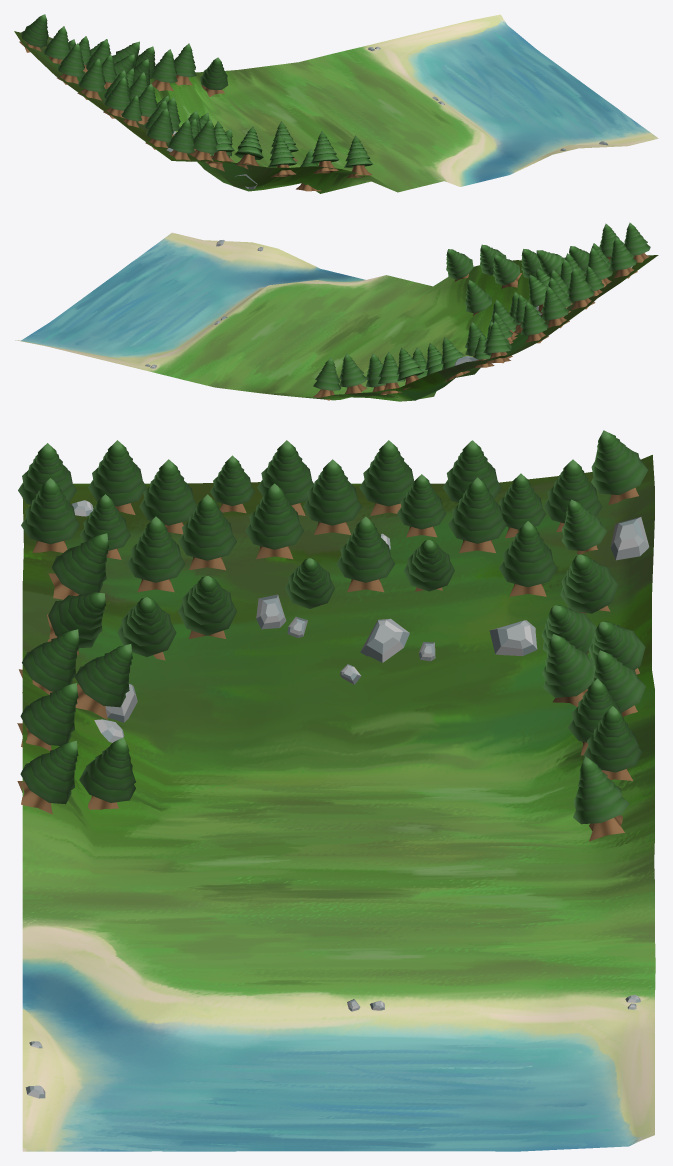
Rendered from tikei.fbx.
3 renders of one model, top to bottom at view 1: azimuth 30°, elevation 25°; view 2: azimuth 150°, elevation 25°; view 3: azimuth 270°, elevation 25°, orthographic. The views are drawn at different scales.
Parts seen in each view (by area): view 1: base, tree1, tree13, tree39, tree2, tree27, tree36, tree11, tree4, tree17, tree25, tree24 (+16 smaller); view 2: base, tree3, tree17, tree16, tree24, tree5, tree13, tree1, tree25, tree11, tree12, tree27 (+17 smaller); view 3: base, tree1, tree11, tree5, tree33, tree20, tree28, tree32, tree14, tree22, tree31, tree36 (+32 smaller).
Part boxes in pixels (bbox=[...]): base: bbox=[14, 14, 658, 193]; tree1: bbox=[200, 57, 228, 96]; tree13: bbox=[77, 58, 105, 100]; tree39: bbox=[234, 126, 263, 169]; tree2: bbox=[150, 49, 177, 91]; tree27: bbox=[167, 119, 195, 160]; tree36: bbox=[189, 119, 217, 161]; tree11: bbox=[344, 135, 372, 177]; tree4: bbox=[310, 131, 339, 173]; tree17: bbox=[57, 43, 84, 84]; tree25: bbox=[19, 14, 48, 52]; tree24: bbox=[145, 108, 173, 149]; base: bbox=[15, 232, 658, 401]; tree3: bbox=[339, 353, 367, 393]; tree17: bbox=[520, 301, 548, 343]; tree16: bbox=[566, 268, 595, 309]; tree24: bbox=[609, 236, 637, 278]; tree5: bbox=[493, 255, 522, 288]; tree13: bbox=[541, 286, 569, 328]; tree1: bbox=[313, 357, 340, 400]; tree25: bbox=[483, 321, 511, 363]; tree11: bbox=[446, 249, 473, 281]; tree12: bbox=[464, 280, 491, 315]; tree27: bbox=[624, 222, 650, 262]; base: bbox=[22, 455, 655, 1151]; tree1: bbox=[573, 756, 629, 841]; tree11: bbox=[17, 740, 78, 814]; tree5: bbox=[75, 644, 132, 719]; tree33: bbox=[126, 516, 185, 592]; tree20: bbox=[245, 483, 304, 559]; tree28: bbox=[336, 516, 395, 592]; tree32: bbox=[498, 521, 557, 596]; tree14: bbox=[303, 459, 362, 534]; tree22: bbox=[178, 494, 236, 570]; tree31: bbox=[448, 477, 506, 553]; tree36: bbox=[21, 478, 79, 552].
Bounding box in the file's own units: 770 × 200 × 437.
